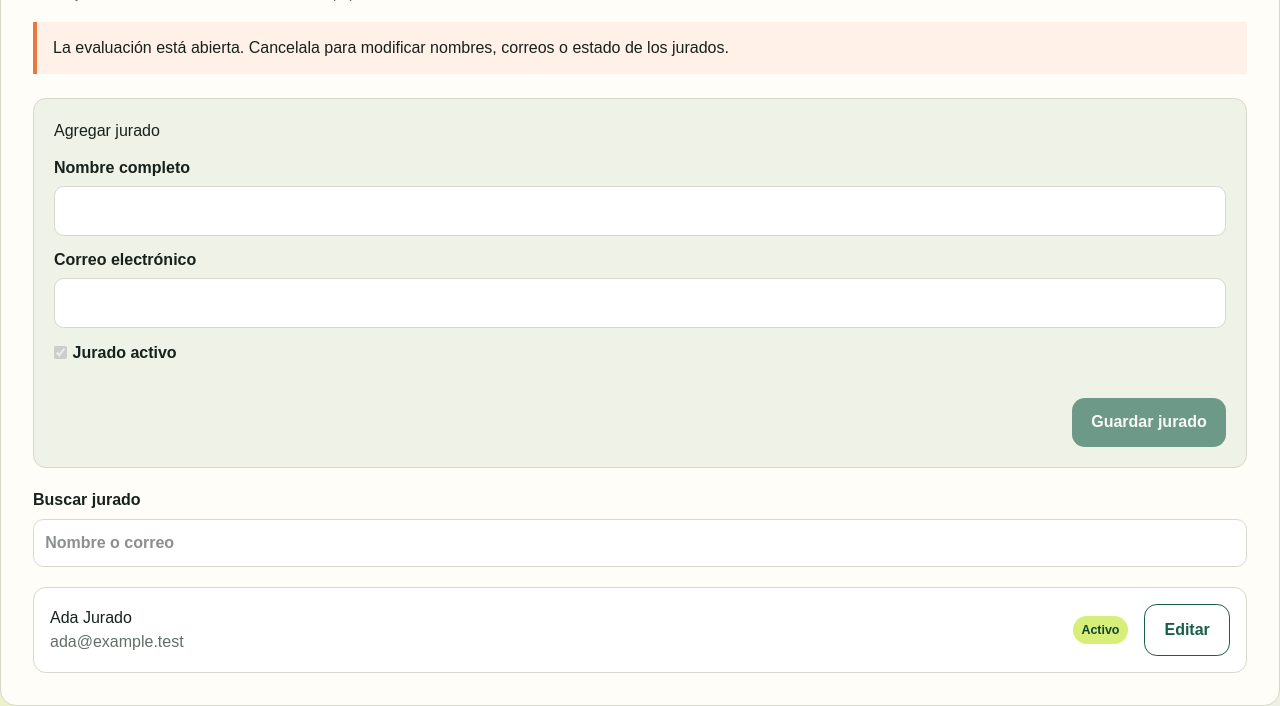
it: jury evaluation interfaces › supports juror search and disables roster editing while the cycle is open
This screenshot has width=1280, height=706.
(page scrolled)
Expected: the heading "Ada Jurado" is shown, [50, 609, 132, 626]
Expected: the button "Editar" is disabled, [1144, 604, 1230, 656]
Type "nadie" into the search field labelled "Buscar jurado". click: (640, 543)
box: [33, 519, 1247, 567]
(page scrolled)
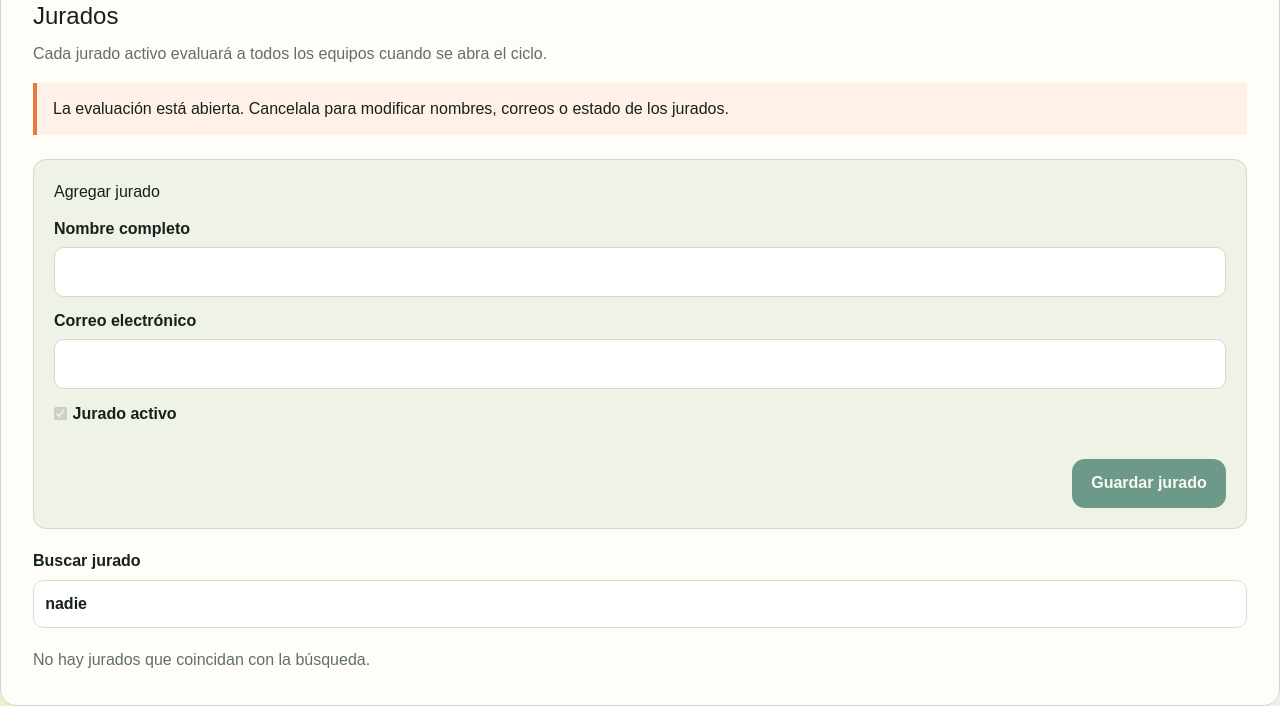
Expected: the text "No hay jurados que coincidan con la búsqueda." is shown, [33, 651, 370, 668]
